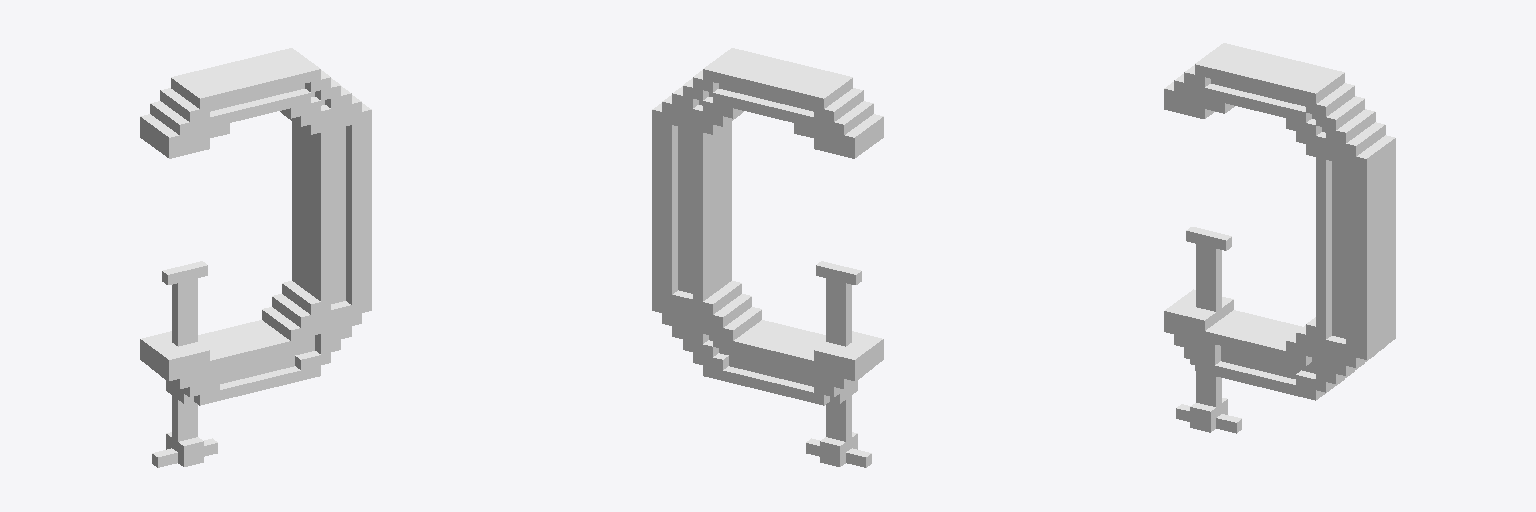
The model's file is Clamp.obj.
3 views of the same model, side by side, from view 1: azimuth 30°, elevation 25°; view 2: azimuth 150°, elevation 25°; view 3: azimuth 330°, elevation 25° (orthographic).
Visible parts, largest first — view 1: object 1; view 2: object 1; view 3: object 1.
Boxes of the visible parts, x1,y1,x2,y2 form: object 1: [140, 48, 371, 467]; object 1: [652, 48, 883, 467]; object 1: [1164, 43, 1395, 433].
Bounding box in the file's own units: 2 × 3.5 × 0.5.